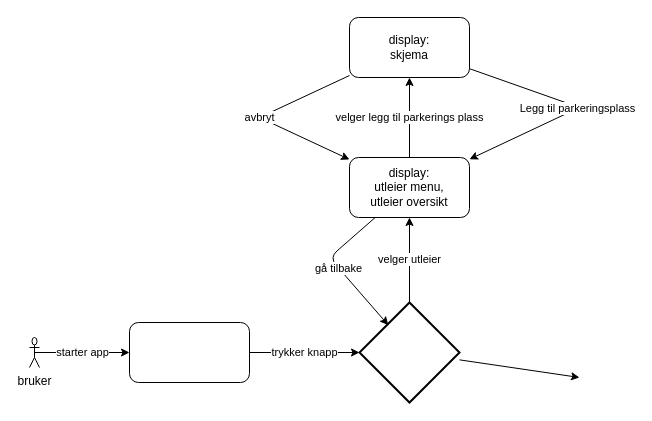
The diagram is 652 pixels wide and 421 high, and some of its shapes have lost their labels. Here are the shapes that lost their labels. From the top down, the centre of each, then its label:
At [189,352]: "display: start menu".
At [409,352]: "choose: utleier, leier, min profil".
